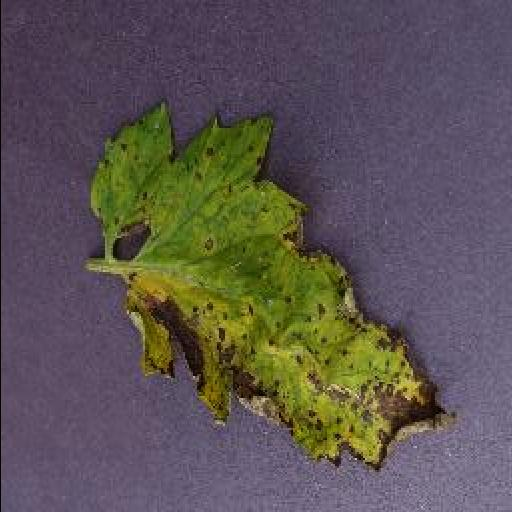disease_tomato: (84, 94, 458, 472)
